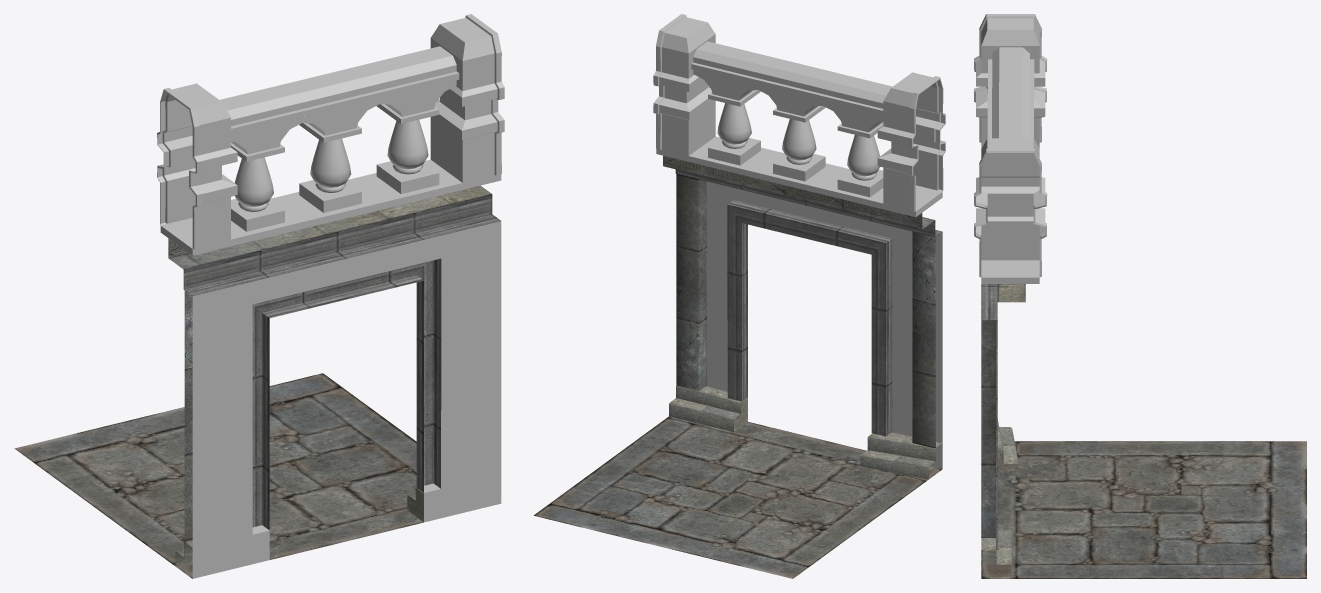
Rendered from UnderDoorway.FBX.
3 views of the same model, side by side, from view 1: azimuth 30°, elevation 25°; view 2: azimuth 150°, elevation 25°; view 3: azimuth 270°, elevation 25° (orthographic). The views are drawn at different scales.
Parts seen in each view (by area): view 1: Box12; view 2: Box12; view 3: Box12.
Boxes of the visible parts, left/top/right/bottom form: Box12: left=14, top=14, right=504, bottom=578; Box12: left=534, top=14, right=945, bottom=578; Box12: left=974, top=14, right=1306, bottom=578.
Bounding box in the file's own units: 500 × 725 × 511.
